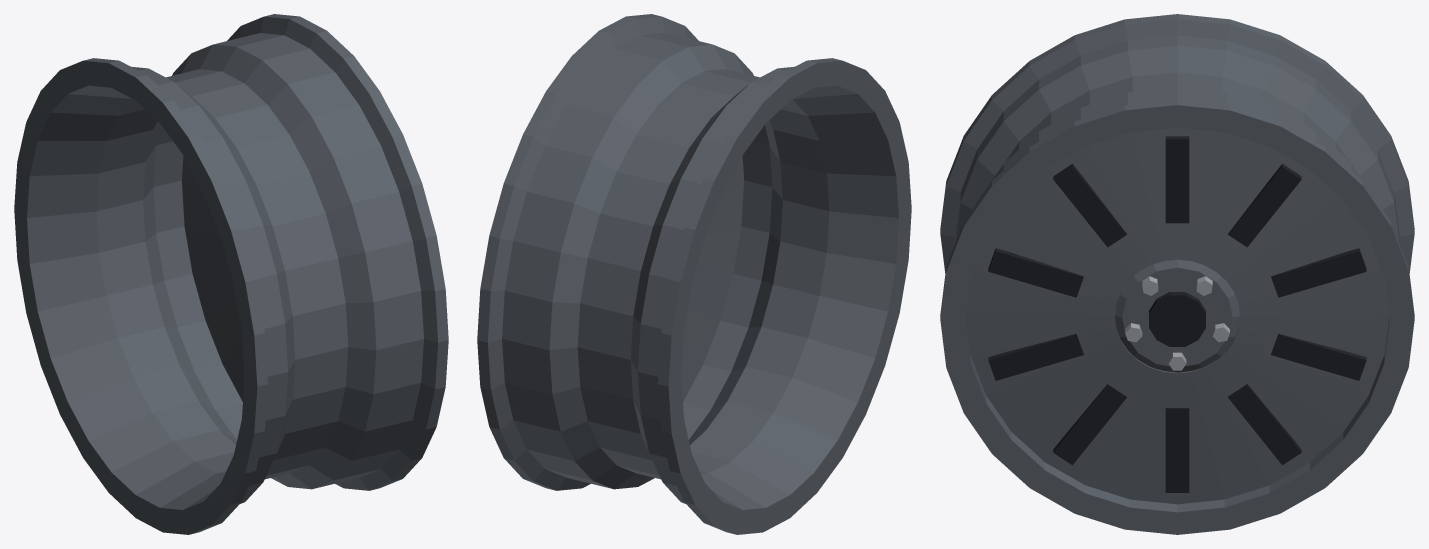
File: rim_slot10_19.glb
The picture shows the model from 3 angles, left to right: view 1: azimuth 30°, elevation 25°; view 2: azimuth 150°, elevation 25°; view 3: azimuth 270°, elevation 25°; orthographic projection. The views are drawn at different scales.
Parts seen in each view (by area): view 1: model; view 2: model; view 3: model.
Part boxes in pixels (bbox=[...]): model: bbox=[14, 14, 448, 534]; model: bbox=[477, 14, 911, 534]; model: bbox=[940, 14, 1414, 534].
Size of the model in its own units: 0.2389 by 0.5146 by 0.5146.
Materials: 3 (1 with a texture image).
